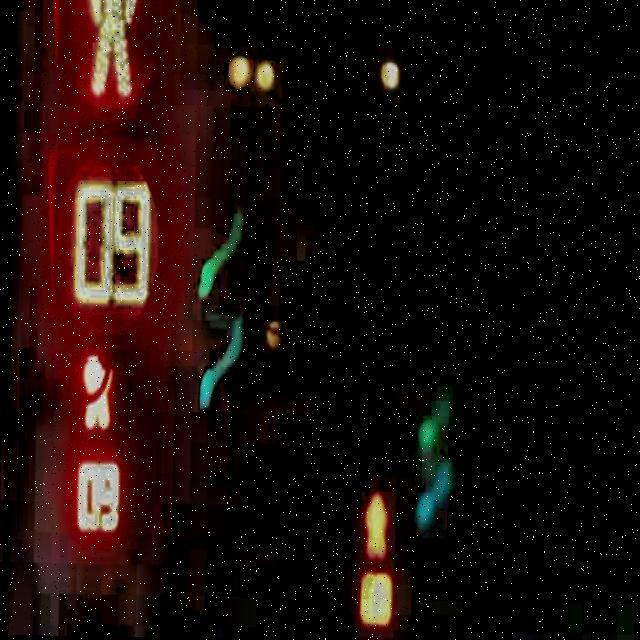red_light: (84, 0, 138, 98)
